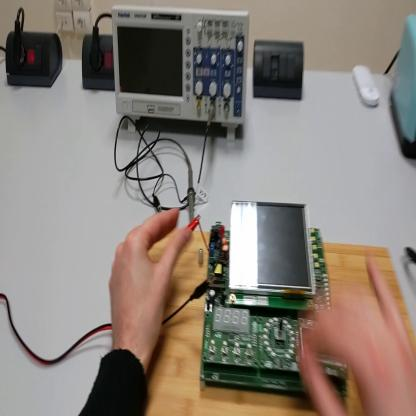hand: (296, 247, 416, 416), (108, 207, 193, 359)
low voltage board: (200, 205, 348, 396)
oscilloscope: (111, 3, 251, 145)
socket: (8, 31, 64, 90), (82, 33, 117, 92)
welder station: (391, 16, 416, 159)
working area: (142, 217, 416, 416)
